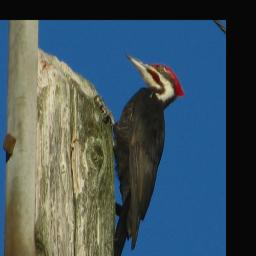Woodpecker: (99, 54, 189, 256)
